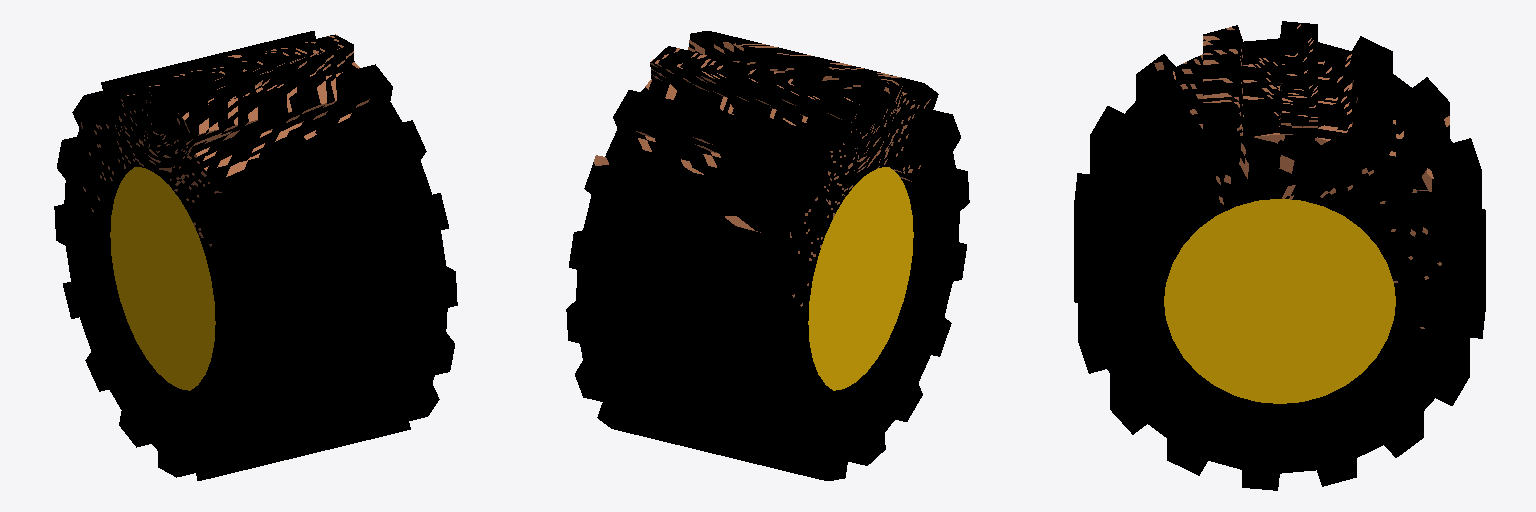
3 renders of one model, left to right at view 1: azimuth 30°, elevation 25°; view 2: azimuth 150°, elevation 25°; view 3: azimuth 270°, elevation 25°, orthographic.
Visible parts, largest first — view 1: FrontWheelLeft_Cylinder.008; view 2: FrontWheelLeft_Cylinder.008; view 3: FrontWheelLeft_Cylinder.008.
Part boxes in pixels (x1,y1,x2,y2): FrontWheelLeft_Cylinder.008: (54,31,457,480); FrontWheelLeft_Cylinder.008: (566,31,969,480); FrontWheelLeft_Cylinder.008: (1074,21,1485,490).
Size of the model in its own units: 16.29 by 29.51 by 29.51.
2 materials, 2 textured.